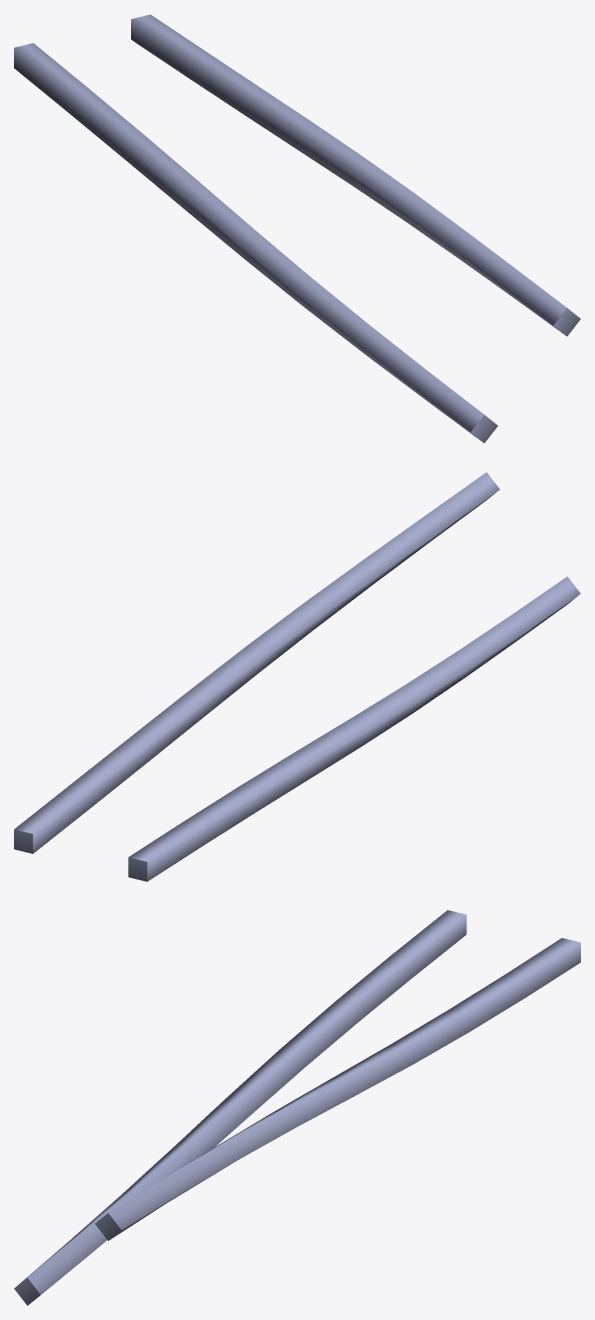
The model's file is railroad-rail-straight-skew-right.glb.
3 renders of one model, top to bottom at view 1: azimuth 30°, elevation 25°; view 2: azimuth 150°, elevation 25°; view 3: azimuth 330°, elevation 25°, orthographic. The views are drawn at different scales.
Visible parts, largest first — view 1: railroad-rail-straight-skew-right; view 2: railroad-rail-straight-skew-right; view 3: railroad-rail-straight-skew-right.
Boxes of the visible parts, bbox=[...] form: railroad-rail-straight-skew-right: bbox=[14, 14, 580, 443]; railroad-rail-straight-skew-right: bbox=[14, 472, 580, 881]; railroad-rail-straight-skew-right: bbox=[14, 910, 580, 1305].
Bounding box in the file's own units: 0.714 × 0.5657 × 4.
